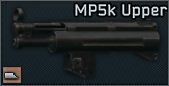MP5K 9x19 upper receiver: (0, 0, 169, 86)
